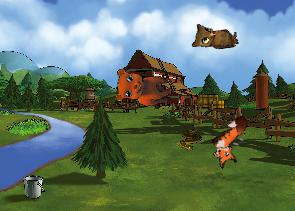bear: (112, 62, 174, 109)
fox: (201, 112, 263, 172)
owl: (189, 18, 239, 52)
